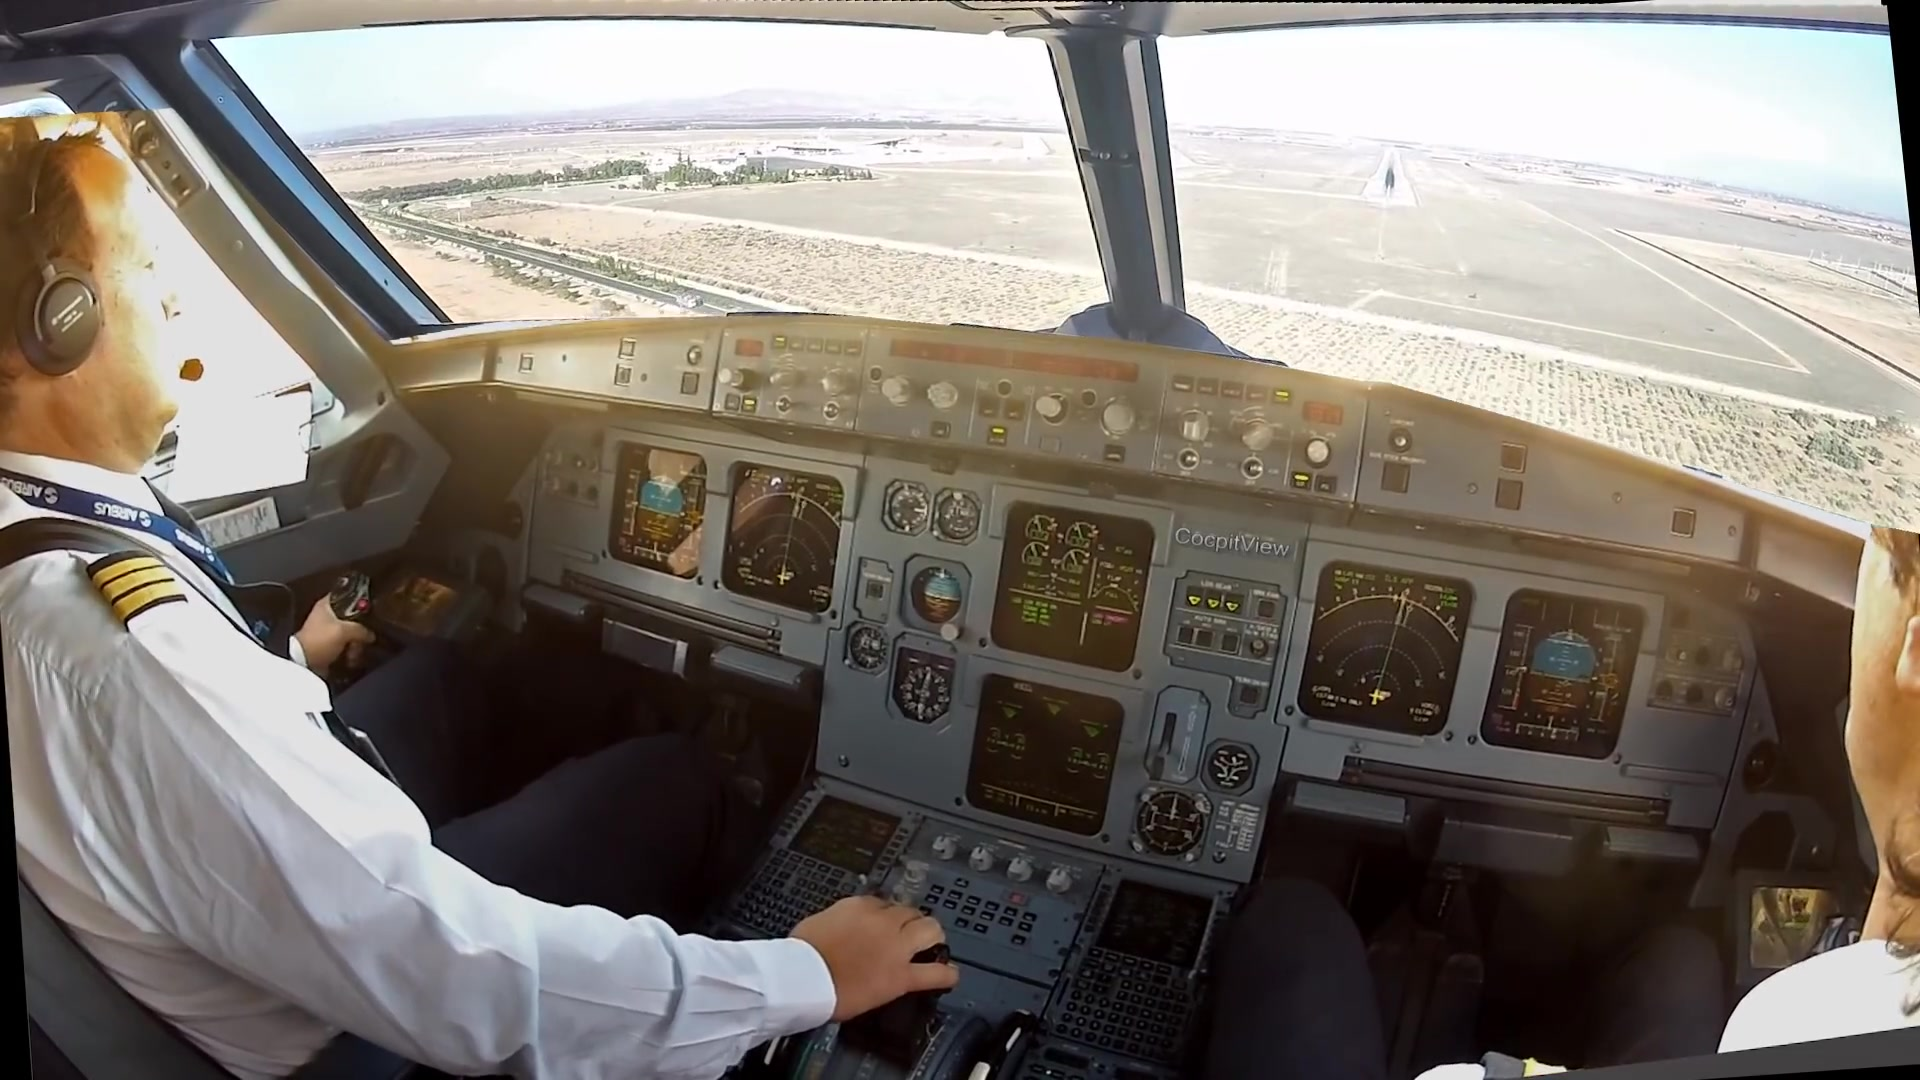runway: (1358, 150, 1416, 207)
